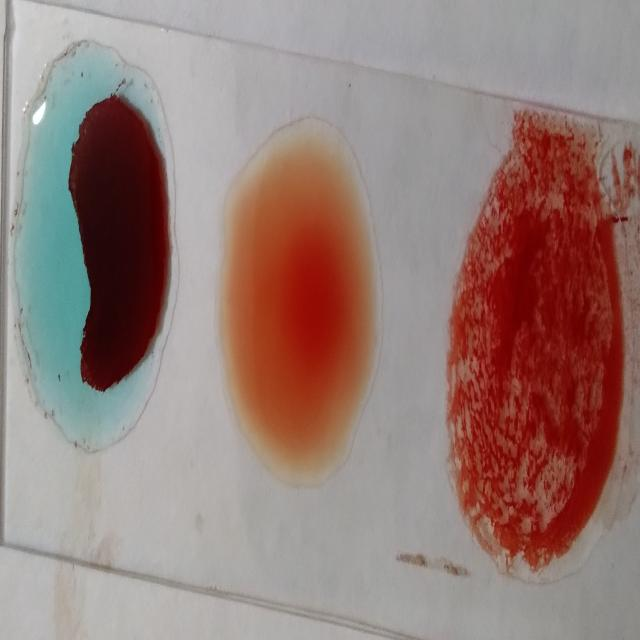A: (15, 53, 177, 439)
D: (450, 148, 620, 578)
